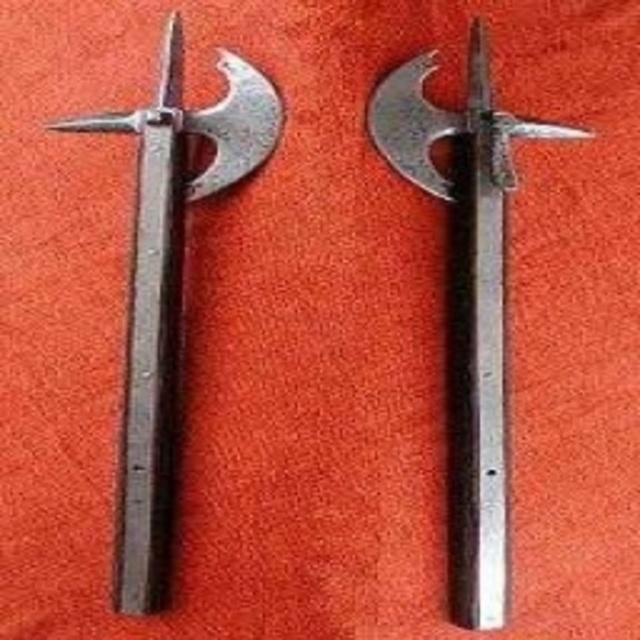ax: (36, 5, 300, 633), (352, 6, 612, 640)
